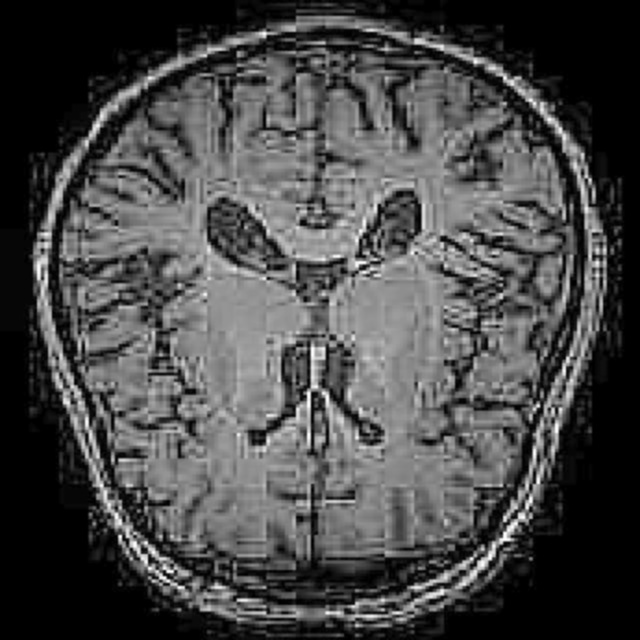glioma tumor: (133, 76, 514, 548)
